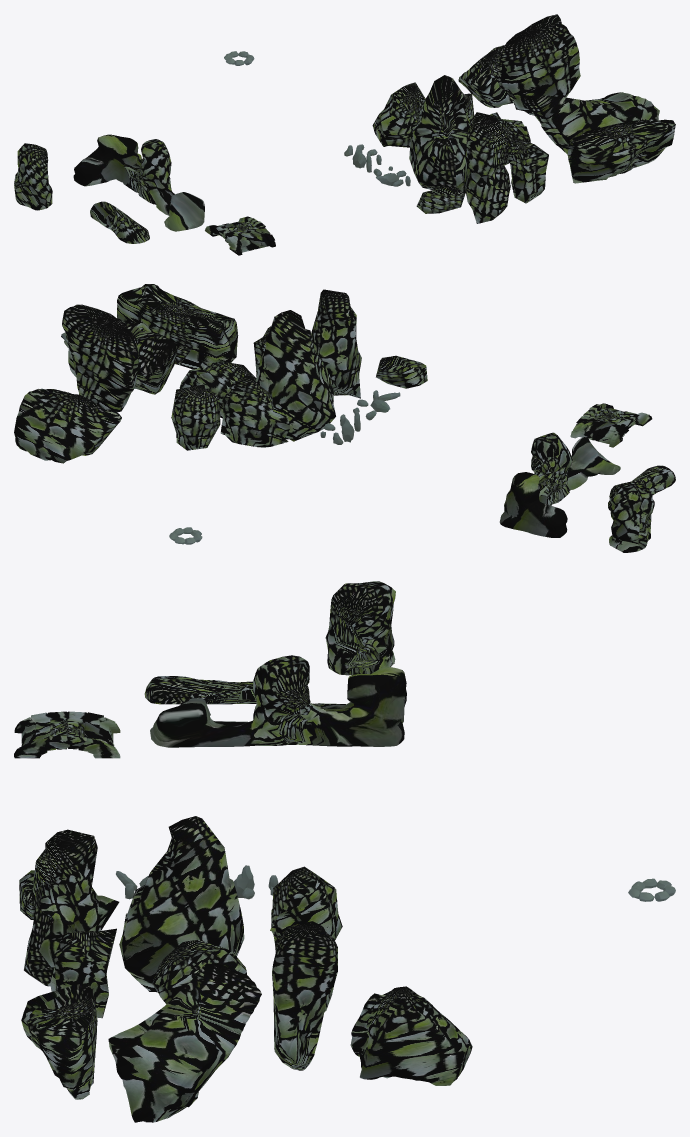
The model's file is rocks.glb.
The picture shows the model from 3 angles, top to bottom: view 1: azimuth 30°, elevation 25°; view 2: azimuth 150°, elevation 25°; view 3: azimuth 270°, elevation 25°; orthographic projection. The views are drawn at different scales.
Parts seen in each view (by area): view 1: Cube.007_Rock_0; view 2: Cube.007_Rock_0; view 3: Cube.007_Rock_0.
Part boxes in pixels (left/top/right/bottom): Cube.007_Rock_0: left=14, top=14, right=675, bottom=255; Cube.007_Rock_0: left=14, top=284, right=675, bottom=552; Cube.007_Rock_0: left=14, top=581, right=675, bottom=1122.
Size of the model in its own units: 14.25 by 2.72 by 9.08.
Materials: 1 (1 with a texture image).
